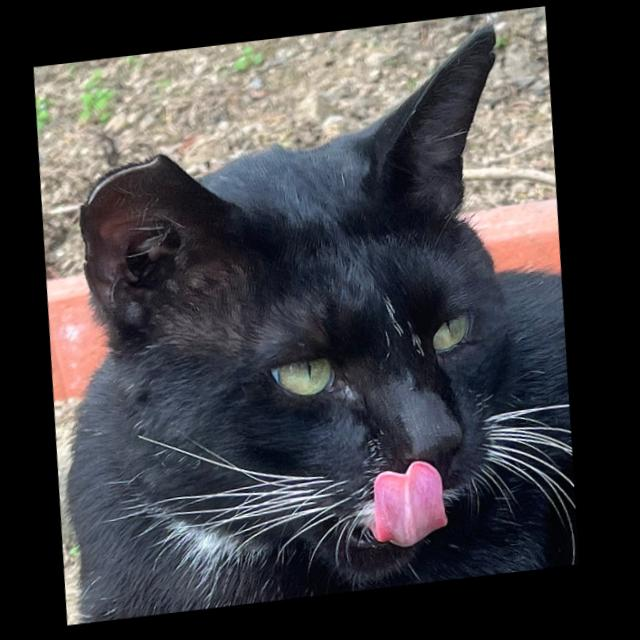animals: (41, 10, 585, 605)
